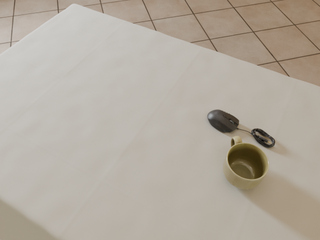cup: (223, 136, 269, 189)
mouse: (207, 110, 239, 132)
